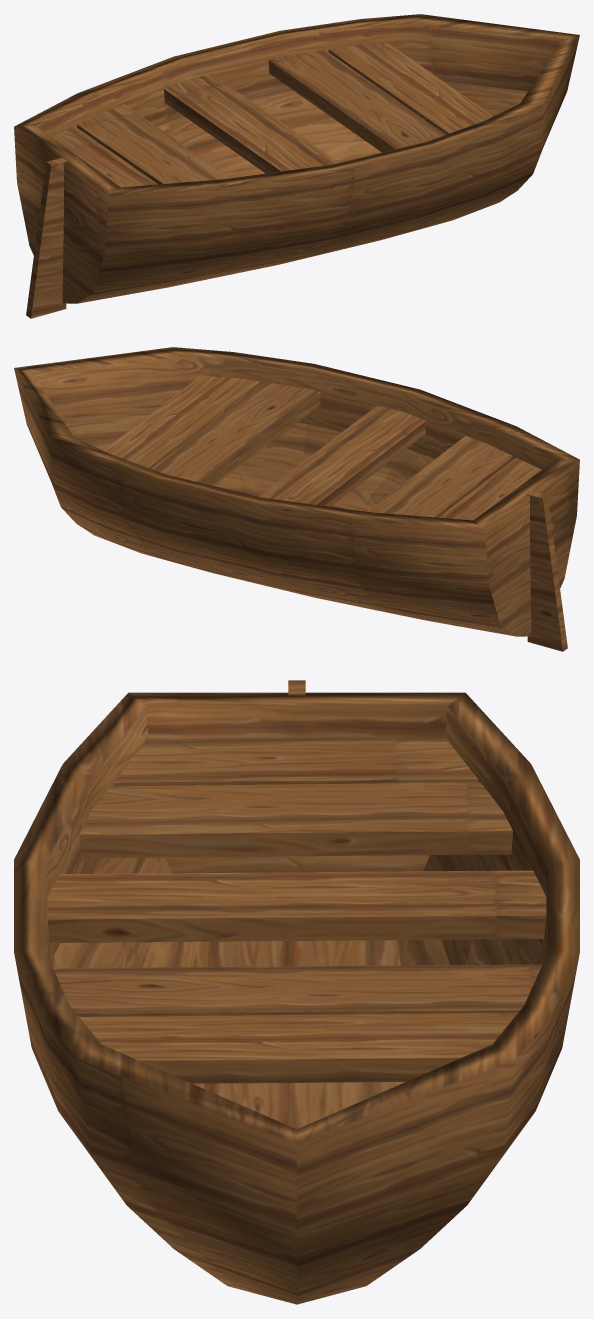
File: Boat V007.fbx
3 views of the same model, one above another, from view 1: azimuth 30°, elevation 25°; view 2: azimuth 150°, elevation 25°; view 3: azimuth 270°, elevation 25° (orthographic). The views are drawn at different scales.
Parts seen in each view (by area): view 1: Boat; view 2: Boat; view 3: Boat.
Boxes of the visible parts, x1,y1,x2,y2 form: Boat: (14, 14, 579, 318); Boat: (14, 347, 579, 651); Boat: (14, 680, 579, 1304).
Bounding box in the file's own units: 5.35 × 1.38 × 2.67.
